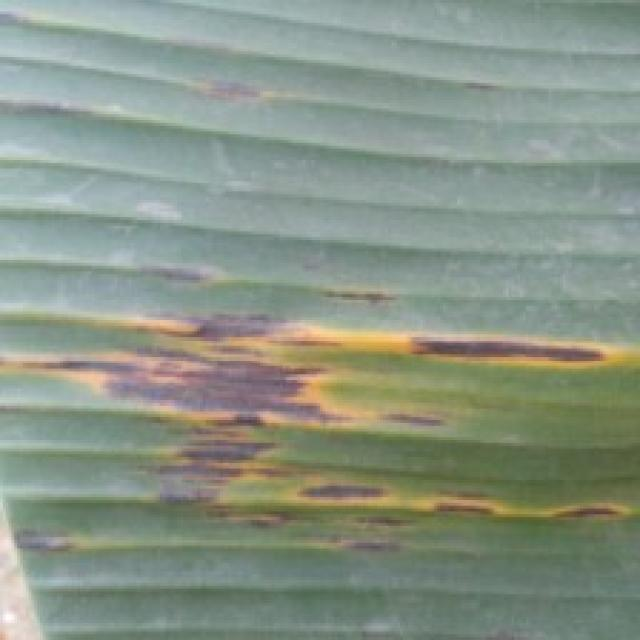Early_leaf_spot: (0, 276, 640, 576), (168, 62, 285, 128), (0, 4, 68, 50)
